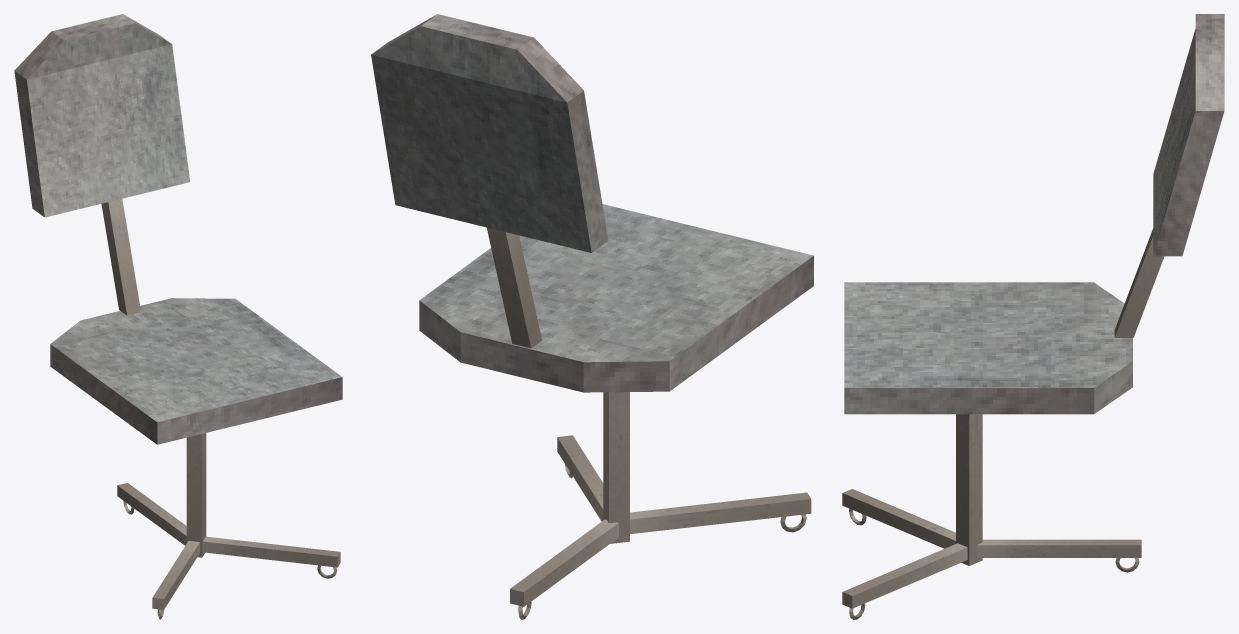
Rendered from Office-Chair.glb.
The picture shows the model from 3 angles, left to right: view 1: azimuth 30°, elevation 25°; view 2: azimuth 150°, elevation 25°; view 3: azimuth 270°, elevation 25°; orthographic projection. The views are drawn at different scales.
Parts seen in each view (by area): view 1: Cube, Cube.006, Cube.005, Cube.002, Cube.001, Cube.004, Cube.003; view 2: Cube, Cube.006, Cube.003, Cube.001, Cube.005, Cube.004, Cube.002; view 3: Cube, Cube.006, Cube.001, Cube.004, Cube.002, Cube.003, Cube.005.
Boxes of the visible parts, x1,y1,x2,y2 form: Cube: (50,298,342,444); Cube.006: (14,14,190,217); Cube.005: (101,199,140,315); Cube.002: (202,536,340,567); Cube.001: (186,433,206,557); Cube.004: (117,483,186,545); Cube.003: (152,541,199,609); Cube: (419,204,813,392); Cube.006: (371,14,608,252); Cube.003: (630,492,811,534); Cube.001: (603,392,629,543); Cube.005: (487,227,541,348); Cube.004: (510,519,618,606); Cube.002: (557,435,603,521); Cube: (844,282,1132,414); Cube.006: (1153,14,1224,256); Cube.001: (956,414,982,565); Cube.004: (977,539,1141,557); Cube.002: (842,543,967,608); Cube.003: (842,489,955,548); Cube.005: (1114,228,1164,337).
Size of the model in its own units: 2.03 by 4.75 by 3.06.
3 materials, 3 textured.
